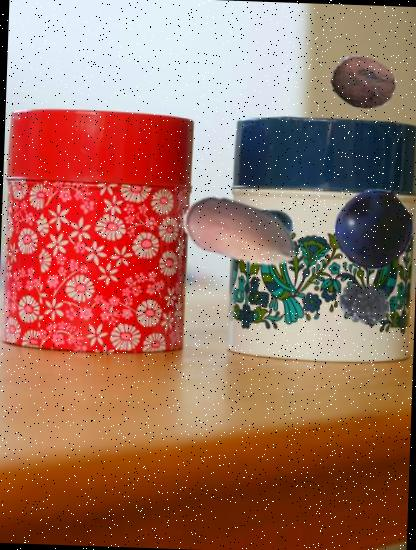Blueberry: (240, 203, 296, 259)
Cocos: (330, 50, 397, 116)
Grape: (332, 189, 413, 270)
Hazelnut: (178, 169, 304, 295)
Mulberry: (333, 278, 397, 342)
